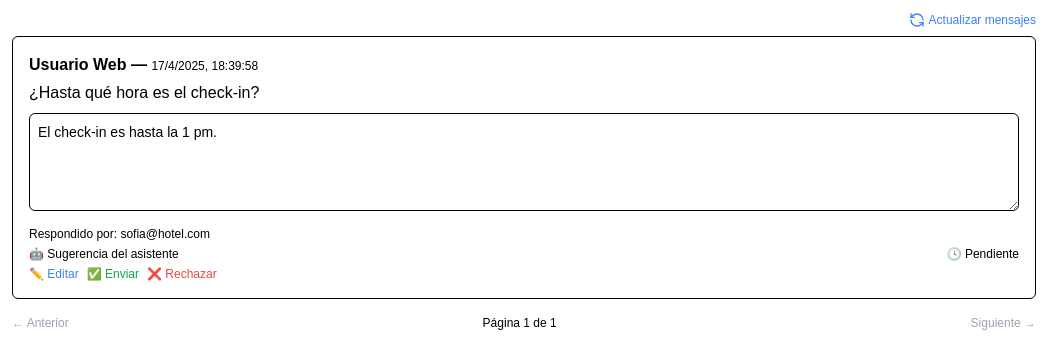
Test: <ChannelMessages /> › actualiza el estado a 'rejected' al hacer clic en '❌ Rechazar'
This screenshot has width=1048, height=347.
Expected: the text "¿Hasta qué hora es el check-in?" is shown, [29,84,259,101]
Click the button "❌ Rechazar". click: (182, 274)
box: [147,266,217,282]
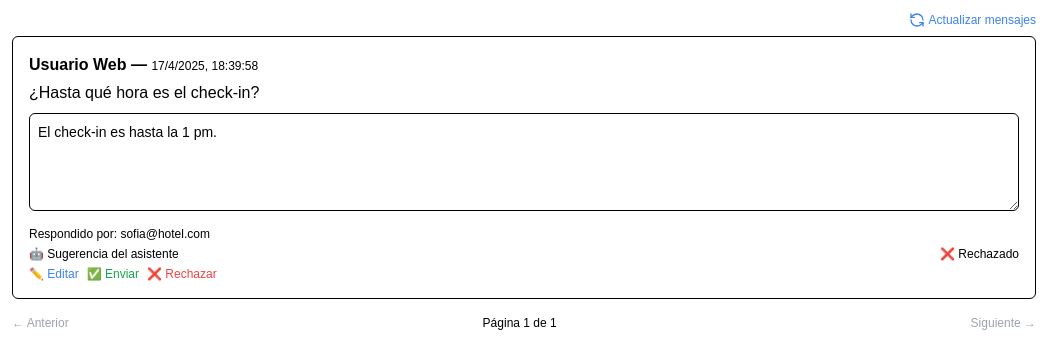
Expected: the text "❌ Rechazado" is shown, [940,246,1019,262]
